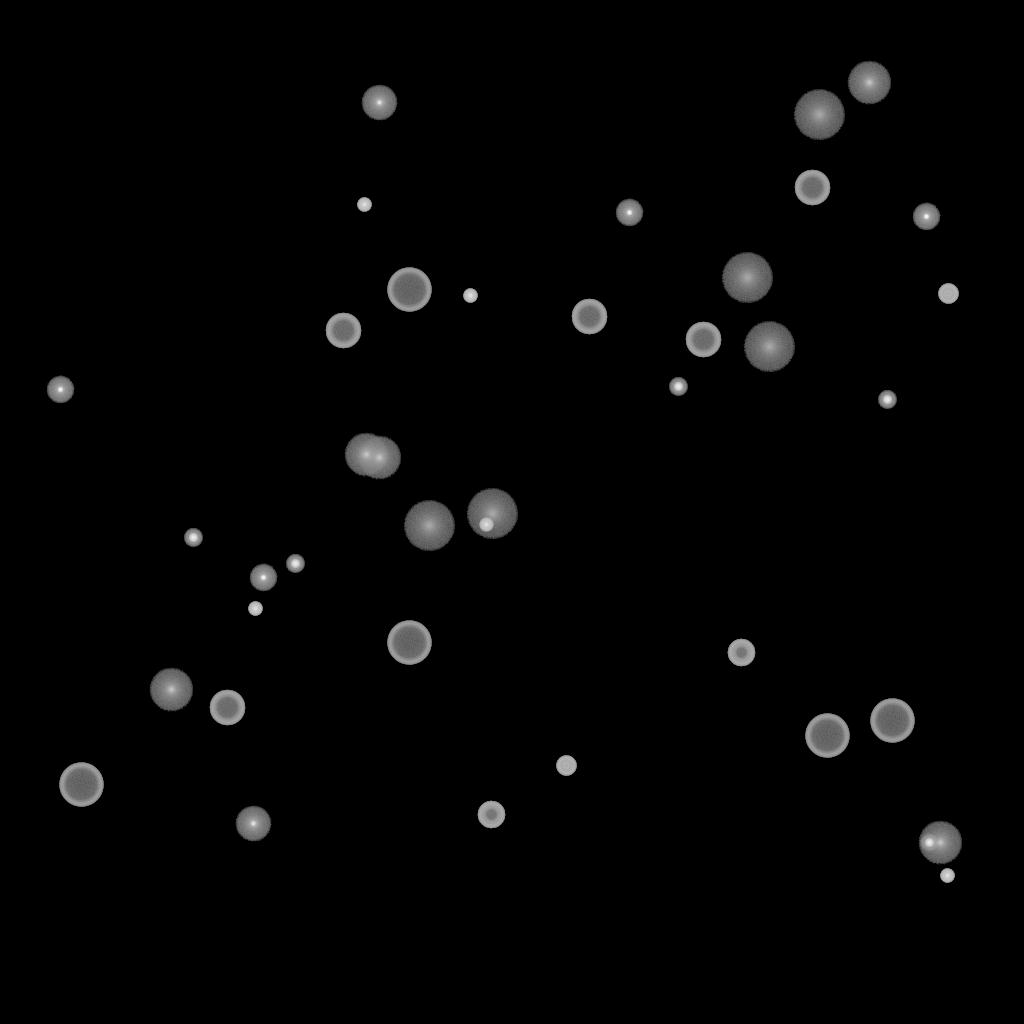depth:-10: (912, 203, 940, 231), (249, 564, 277, 592), (615, 199, 643, 227), (46, 376, 74, 404)
depth:-20: (286, 555, 304, 573), (669, 378, 687, 396), (920, 834, 938, 852), (878, 391, 896, 409), (184, 529, 202, 547)
depth:-30: (463, 289, 477, 303), (940, 869, 954, 883), (248, 602, 262, 616), (479, 518, 493, 532), (357, 198, 371, 212)
depth:-40: (938, 284, 958, 304), (556, 756, 576, 776)
depth:-50: (727, 639, 755, 667), (477, 801, 505, 829)
depth:-60: (571, 299, 607, 335), (794, 170, 830, 206), (325, 313, 361, 349), (685, 322, 721, 358), (209, 690, 245, 726)
depth:-70: (805, 714, 849, 758), (387, 268, 431, 312), (387, 621, 431, 665), (870, 699, 914, 743), (59, 763, 103, 807)
depth:0: (361, 85, 397, 121), (235, 806, 271, 842)
depth:10: (357, 436, 401, 480), (918, 821, 962, 865), (149, 668, 193, 712), (344, 433, 388, 477), (847, 61, 891, 105)
depth:20: (793, 90, 845, 140), (743, 322, 795, 372), (466, 489, 518, 539), (721, 253, 773, 303), (403, 501, 455, 551)
